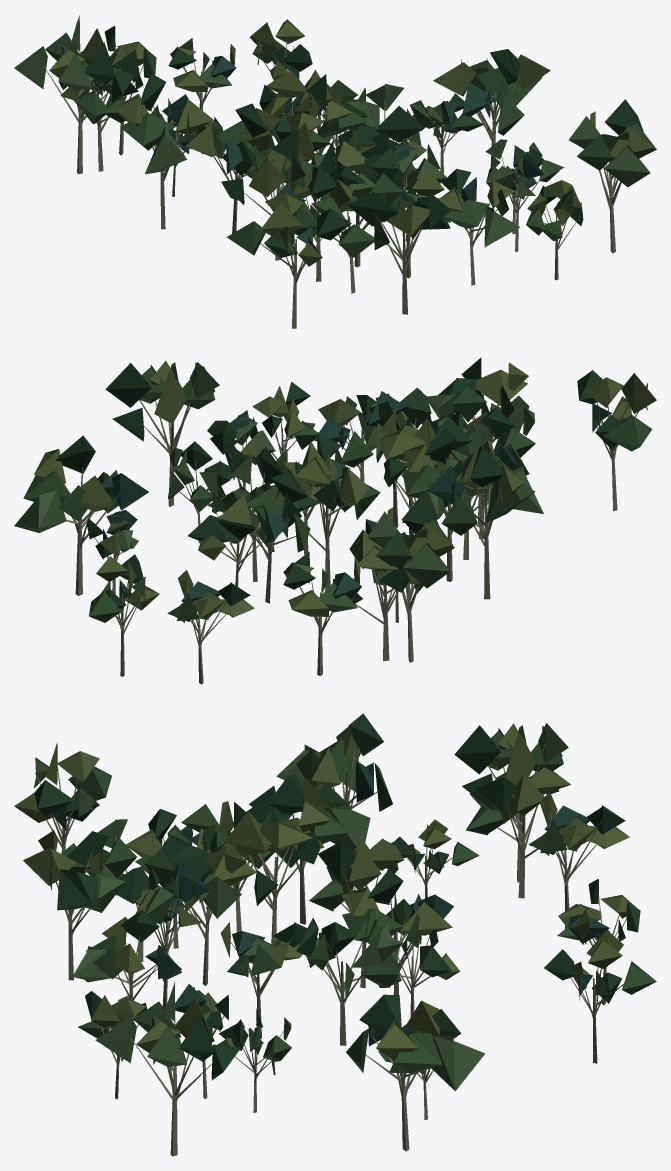
Rendered from forest_24_22.dae.
The picture shows the model from 3 angles, top to bottom: view 1: azimuth 30°, elevation 25°; view 2: azimuth 150°, elevation 25°; view 3: azimuth 270°, elevation 25°; orthographic projection. The views are drawn at different scales.
Parts seen in each view (by area): view 1: Node; view 2: Node; view 3: Node.
Part boxes in pixels (<box>): Node: <box>14,15,656,328</box>; Node: <box>14,357,656,684</box>; Node: <box>14,713,656,1156</box>.
Bounding box in the file's own units: 10.79 × 11.29 × 4.63.
